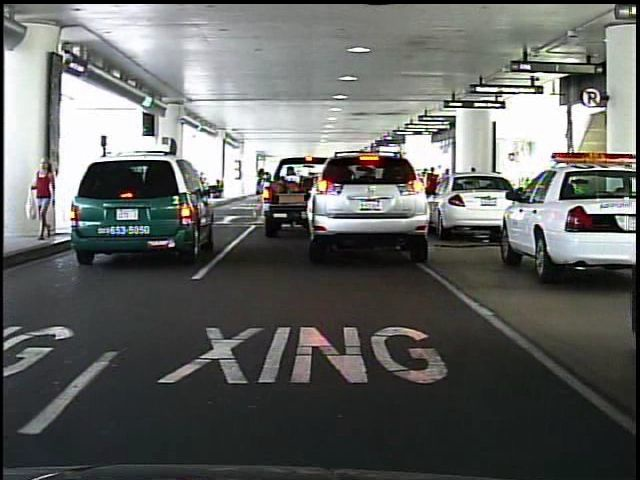person: (35, 152, 61, 244)
